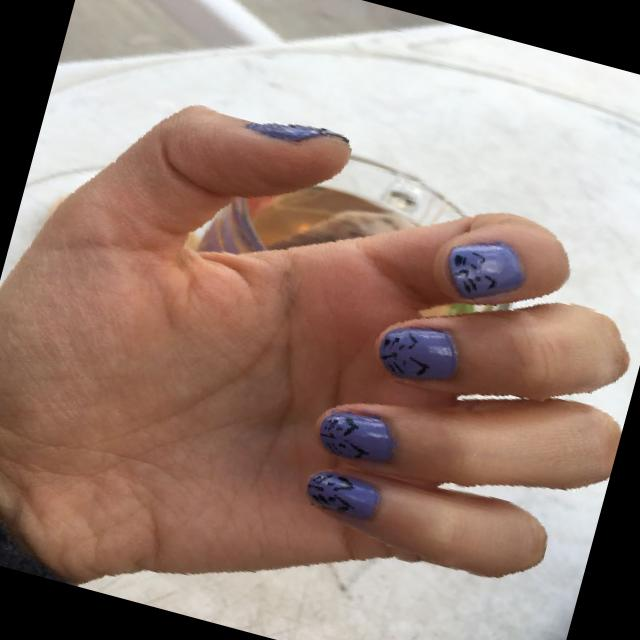Nail: (447, 242, 524, 299), (379, 326, 457, 379), (319, 411, 395, 462), (306, 471, 379, 518), (246, 122, 347, 142)
